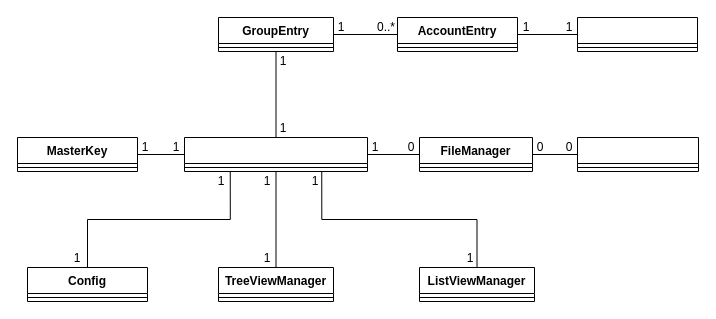
Image size: 716x319. Some labels were removed from this diagram. Here are the shapes that lost their labels. From the top down, the centre of each, then its label:
At (637,34): "Password".
At (276,154): "MainForm".
At (637,154): "FileEncryptor".
